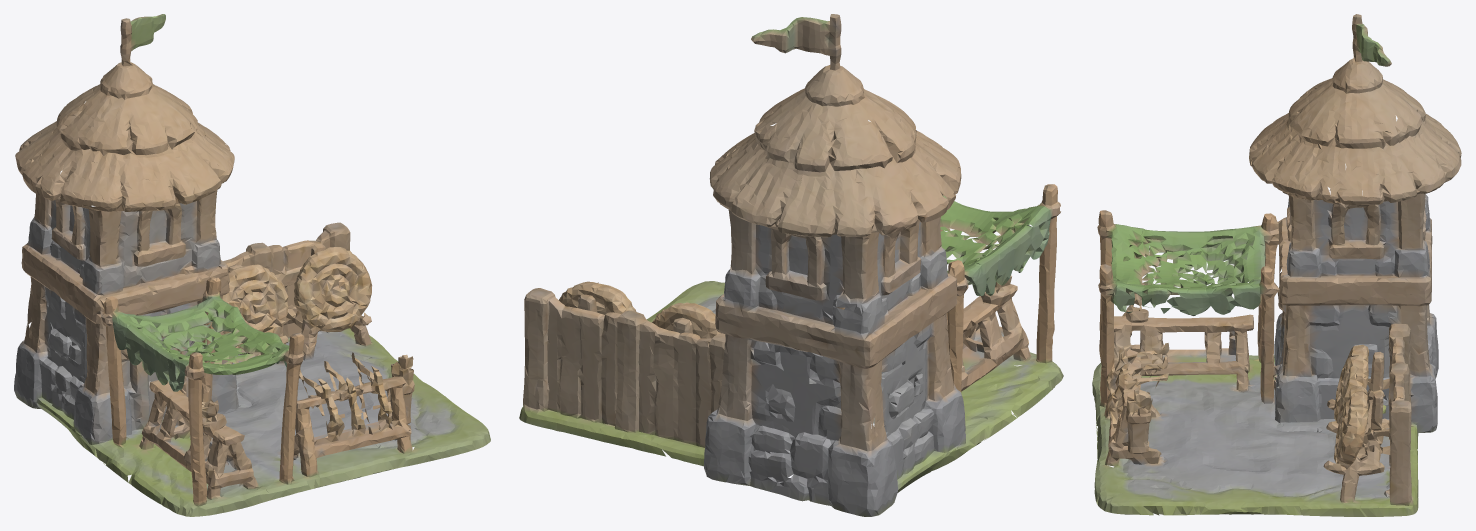
Rendered from building_archery_range_lod0.glb.
The picture shows the model from 3 angles, left to right: view 1: azimuth 30°, elevation 25°; view 2: azimuth 150°, elevation 25°; view 3: azimuth 270°, elevation 25°; orthographic projection. The views are drawn at different scales.
Visible parts, largest first — view 1: world; view 2: world; view 3: world.
Boxes of the visible parts, bbox=[...] form: world: bbox=[14, 14, 490, 516]; world: bbox=[519, 14, 1063, 516]; world: bbox=[1092, 14, 1461, 516].
Size of the model in its own units: 1.76 by 1.9 by 1.66.
